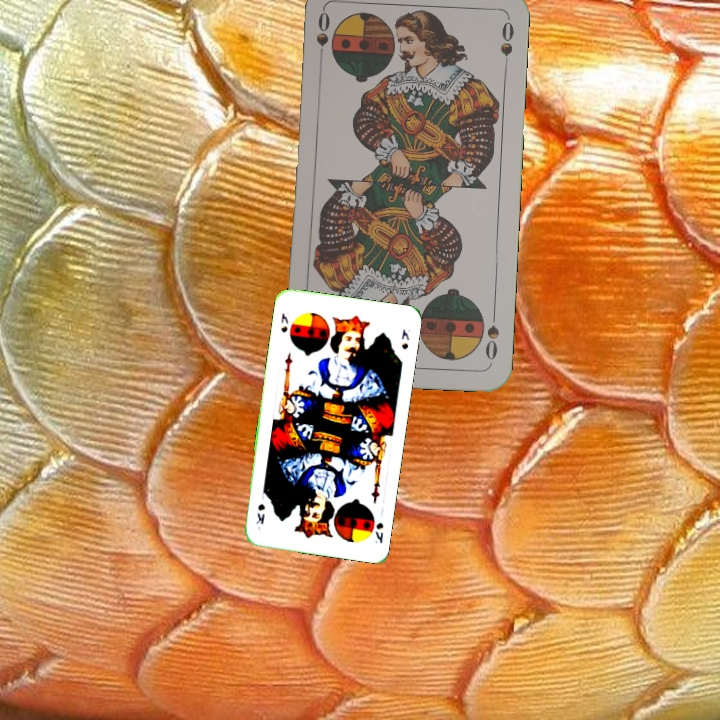SK: (371, 518, 386, 546), (277, 309, 291, 335)
SO: (481, 307, 502, 366), (312, 8, 333, 67)
